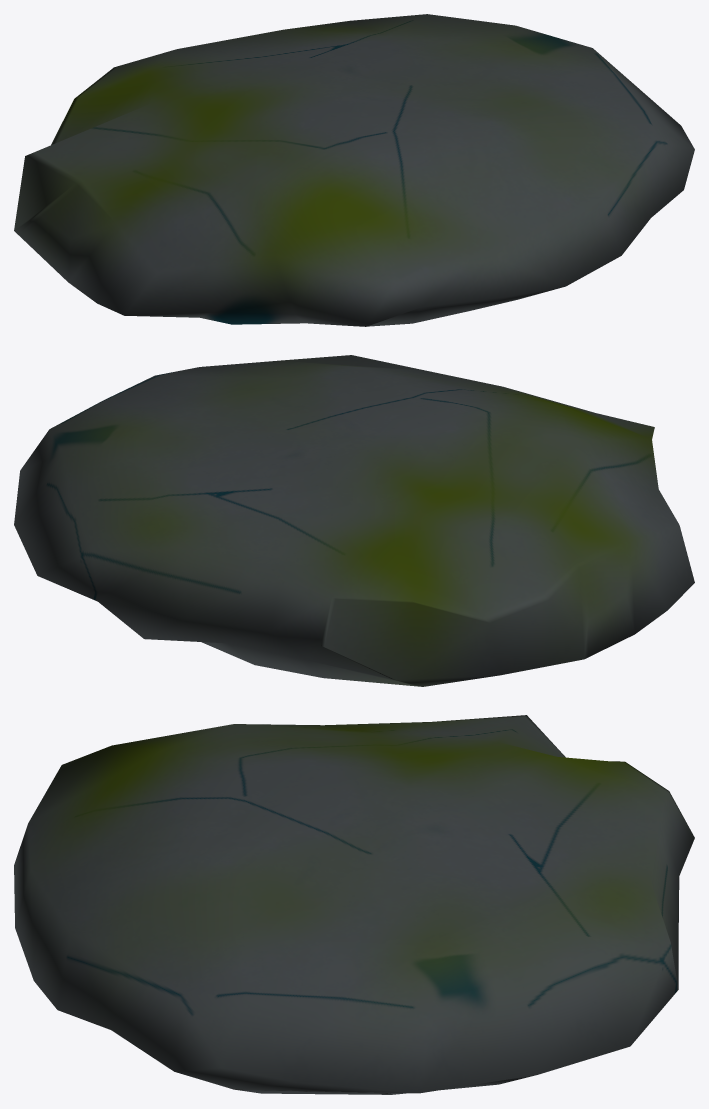
Rendered from stone05.fbx.
3 renders of one model, top to bottom at view 1: azimuth 30°, elevation 25°; view 2: azimuth 150°, elevation 25°; view 3: azimuth 270°, elevation 25°, orthographic. The views are drawn at different scales.
Visible parts, largest first — view 1: polySurface16; view 2: polySurface16; view 3: polySurface16.
Part boxes in pixels (x1=…): polySurface16: x1=14, y1=14, x2=694, y2=326; polySurface16: x1=14, y1=355, x2=694, y2=686; polySurface16: x1=14, y1=715, x2=694, y2=1094.
Size of the model in its own units: 4.29 by 1.03 by 3.64.
1 material, 1 textured.
